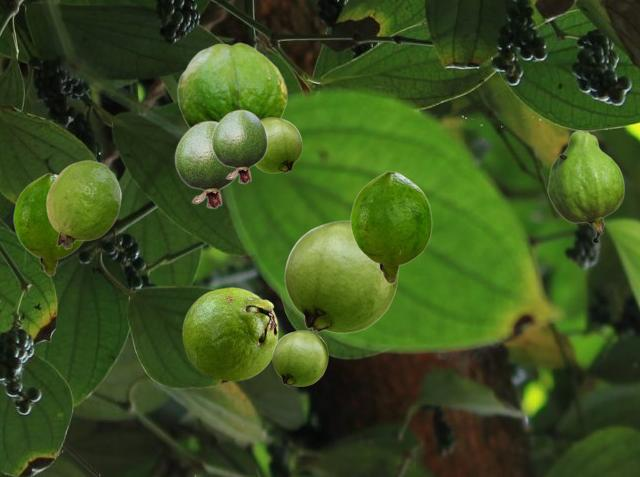guava: (284, 220, 397, 332), (177, 42, 286, 127), (350, 171, 431, 283), (182, 287, 277, 380), (547, 130, 623, 242), (13, 173, 83, 275), (46, 160, 120, 248), (174, 120, 237, 208), (211, 109, 267, 183), (272, 330, 327, 385), (255, 117, 301, 172)
